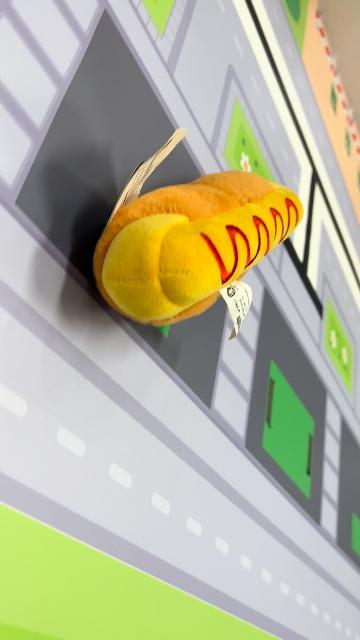hotdog: (93, 169, 306, 329)
